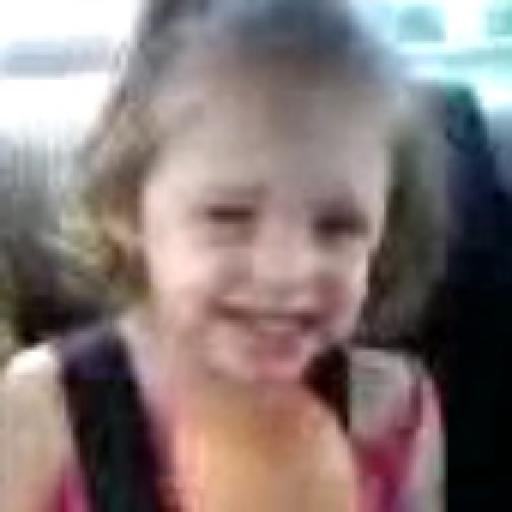Autism: (126, 40, 456, 512)
